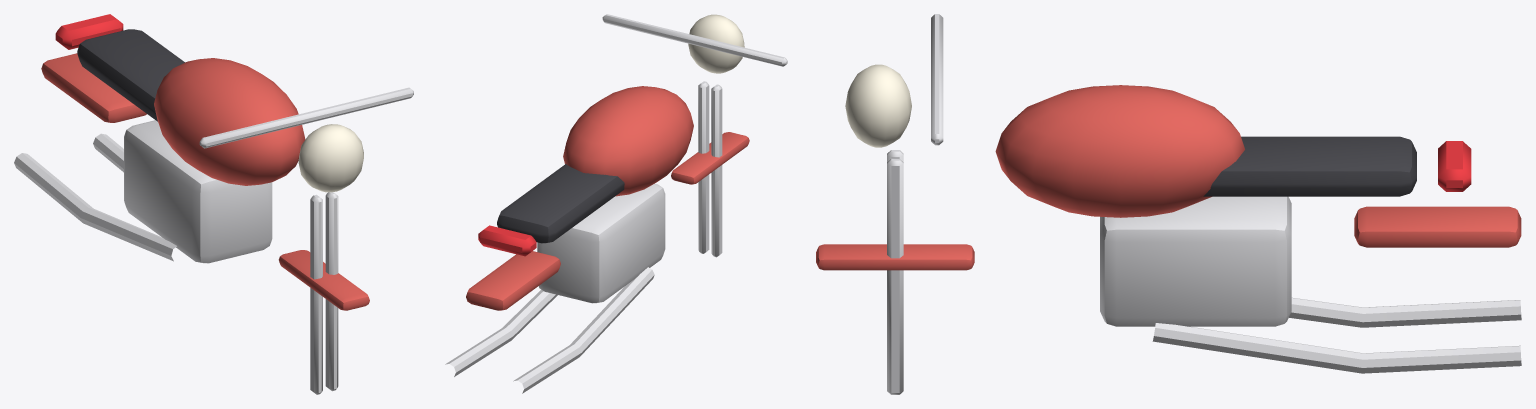
Rendered from moto_body.glb.
The picture shows the model from 3 angles, left to right: view 1: azimuth 30°, elevation 25°; view 2: azimuth 150°, elevation 25°; view 3: azimuth 270°, elevation 25°; orthographic projection. The views are drawn at different scales.
Parts seen in each view (by area): view 1: moto_body; view 2: moto_body; view 3: moto_body.
Boxes of the visible parts, x1,y1,x2,y2 form: moto_body: (14, 14, 413, 394); moto_body: (445, 14, 787, 393); moto_body: (816, 14, 1521, 394).
Bounding box in the file's own units: 0.7 × 0.85 × 1.69.
